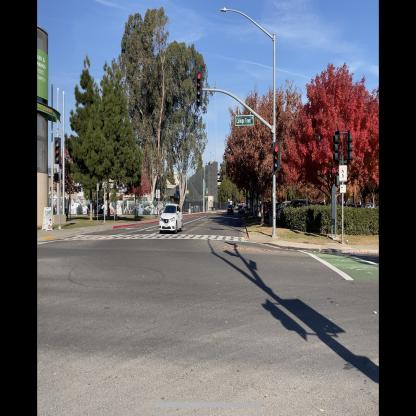red: (195, 67, 203, 107), (272, 140, 280, 173)
yellow: (54, 136, 62, 166)
